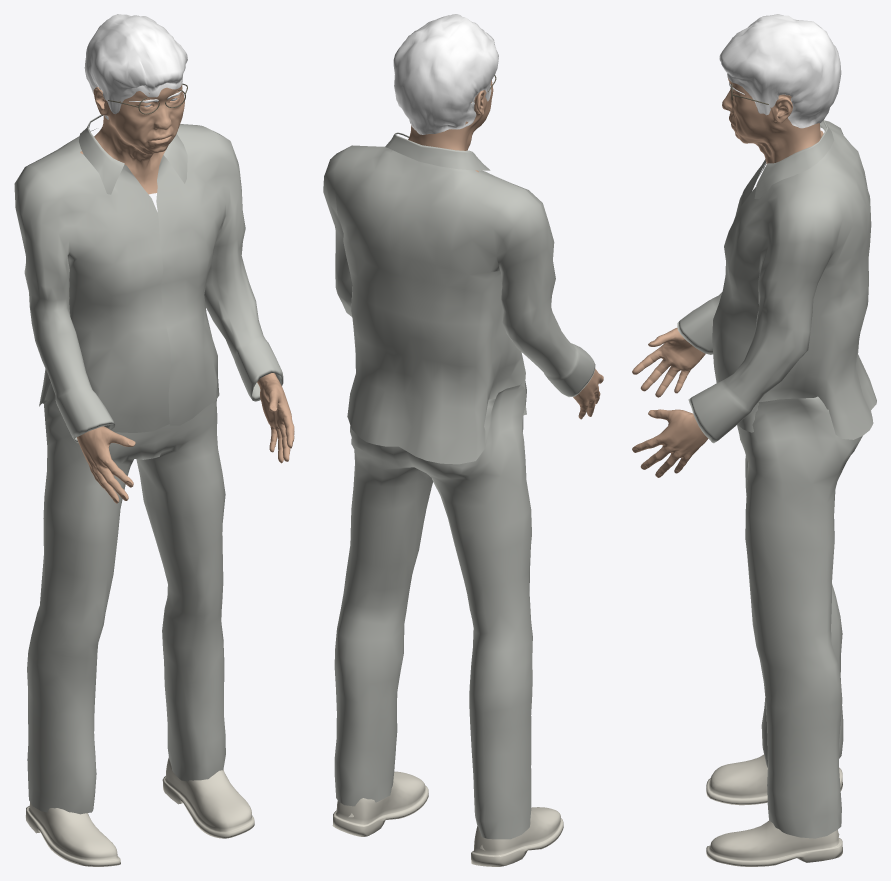
File: elder-man.glb
3 renders of one model, left to right at view 1: azimuth 30°, elevation 25°; view 2: azimuth 150°, elevation 25°; view 3: azimuth 270°, elevation 25°, orthographic.
Parts seen in each view (by area): view 1: CC0 fitted clothes/male_casualsuit03/male_casualsuit03, smooth human anatomy with per-corner UV seams, CC0 fitted clothes/shoes04/shoes04, CC0 fitted hair/short02/short02; view 2: CC0 fitted clothes/male_casualsuit03/male_casualsuit03, CC0 fitted hair/short02/short02, CC0 fitted clothes/shoes04/shoes04, smooth human anatomy with per-corner UV seams; view 3: CC0 fitted clothes/male_casualsuit03/male_casualsuit03, CC0 fitted hair/short02/short02, smooth human anatomy with per-corner UV seams, CC0 fitted clothes/shoes04/shoes04.
Boxes of the visible parts, left/top/right/bottom form: CC0 fitted clothes/male_casualsuit03/male_casualsuit03: left=14, top=114, right=283, bottom=814; smooth human anatomy with per-corner UV seams: left=77, top=84, right=294, bottom=503; CC0 fitted clothes/shoes04/shoes04: left=25, top=757, right=254, bottom=866; CC0 fitted hair/short02/short02: left=84, top=14, right=187, bottom=119; CC0 fitted clothes/male_casualsuit03/male_casualsuit03: left=323, top=132, right=595, bottom=839; CC0 fitted hair/short02/short02: left=393, top=14, right=498, bottom=134; CC0 fitted clothes/shoes04/shoes04: left=332, top=771, right=563, bottom=866; smooth human anatomy with per-corner UV seams: left=408, top=80, right=603, bottom=419; CC0 fitted clothes/male_casualsuit03/male_casualsuit03: left=677, top=120, right=876, bottom=838; CC0 fitted hair/short02/short02: left=719, top=14, right=841, bottom=128; smooth human anatomy with per-corner UV seams: left=632, top=78, right=823, bottom=477; CC0 fitted clothes/shoes04/shoes04: left=706, top=754, right=842, bottom=866.
Bounding box in the file's own units: 0.4873 × 1.74 × 0.4791.
